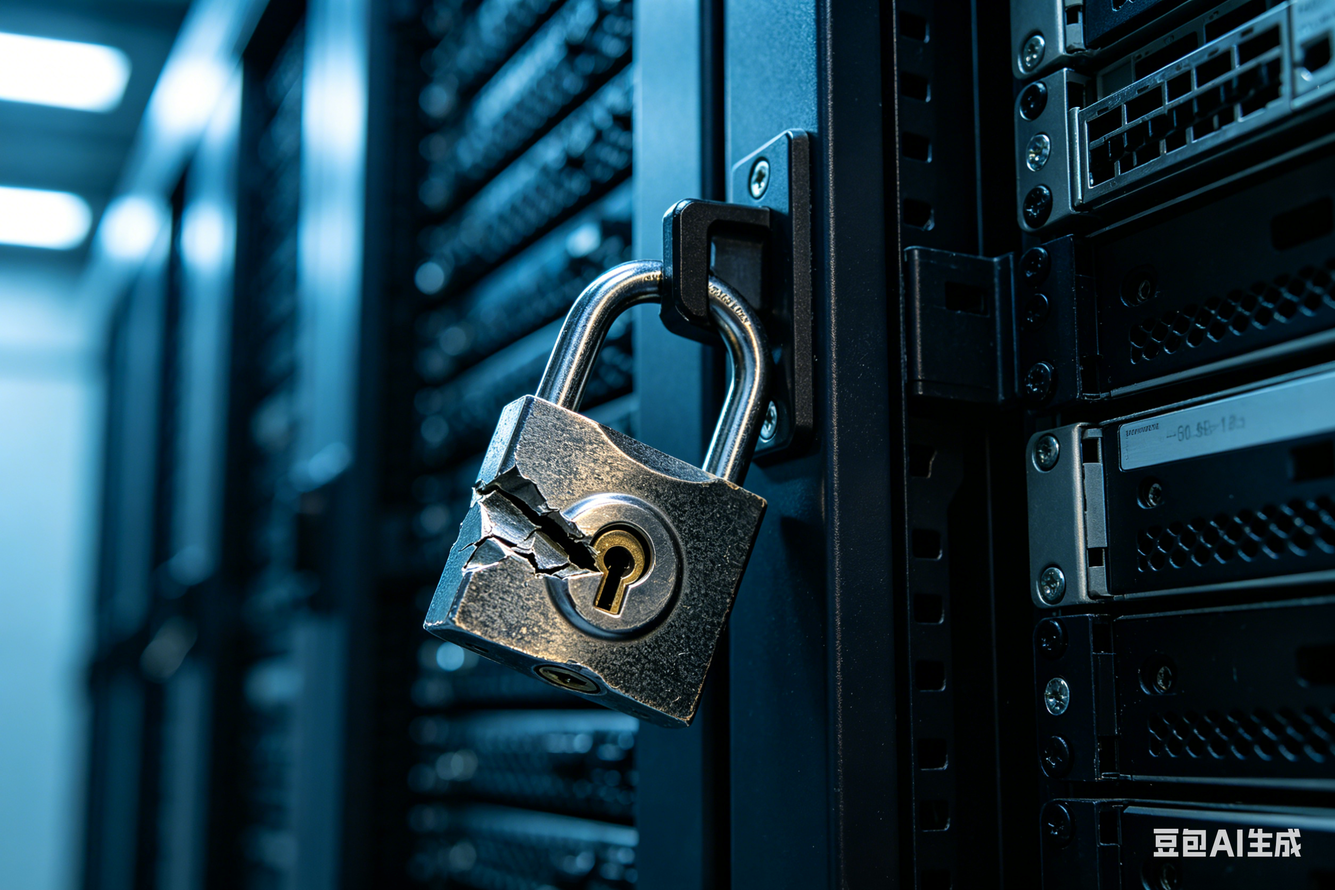BadLock: (449, 423, 675, 648)
